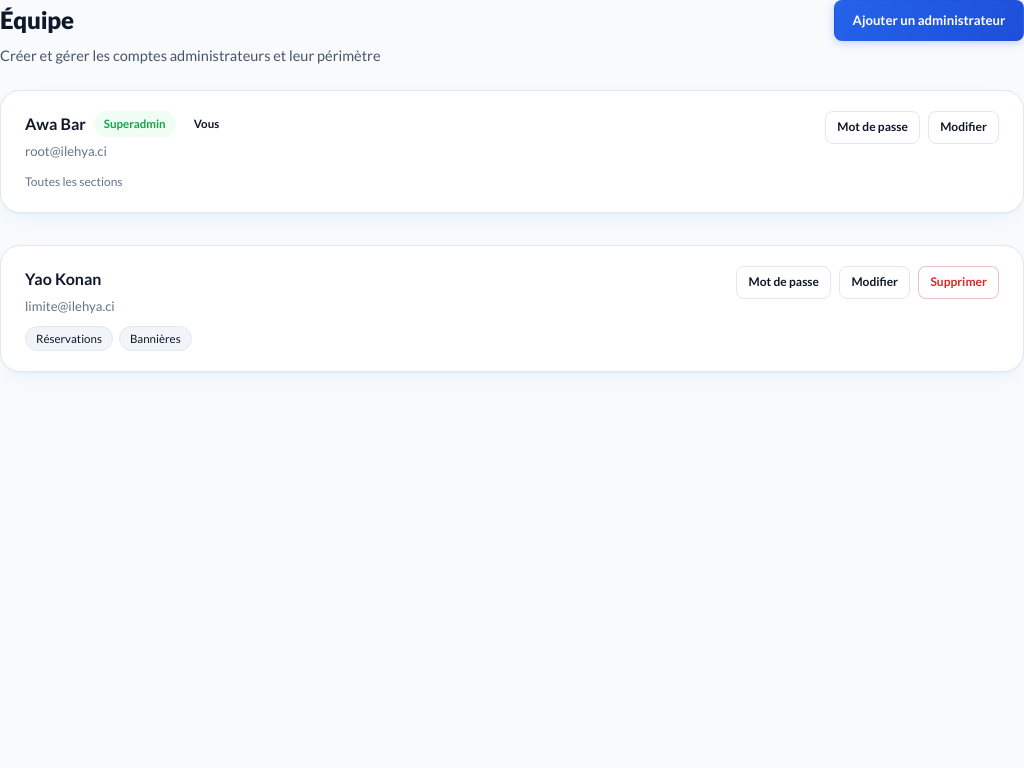
Scenario: AdminEquipePage — création › crée un compte avec le périmètre sélectionné puis recharge la liste
The width and height of the screenshot is (1024, 768).
Expected: the text "Yao Konan" is shown, [25,266,101,292]
Click the button "Ajouter un administrateur": coordinates (929, 21) [834,0,1023,41]
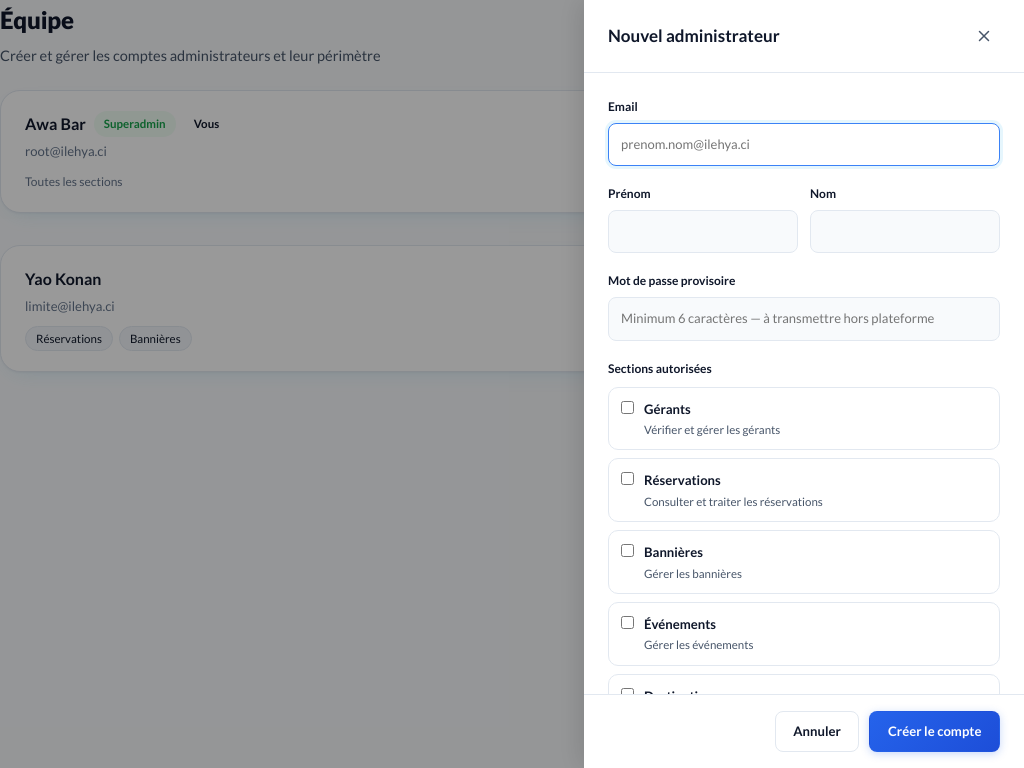
In the field labelled "Email": coordinates (804, 144) [608,123,1000,166], type "nouveau@ilehya.ci"
In the field labelled "Prénom": coordinates (703, 232) [608,210,798,253], type "Aya"
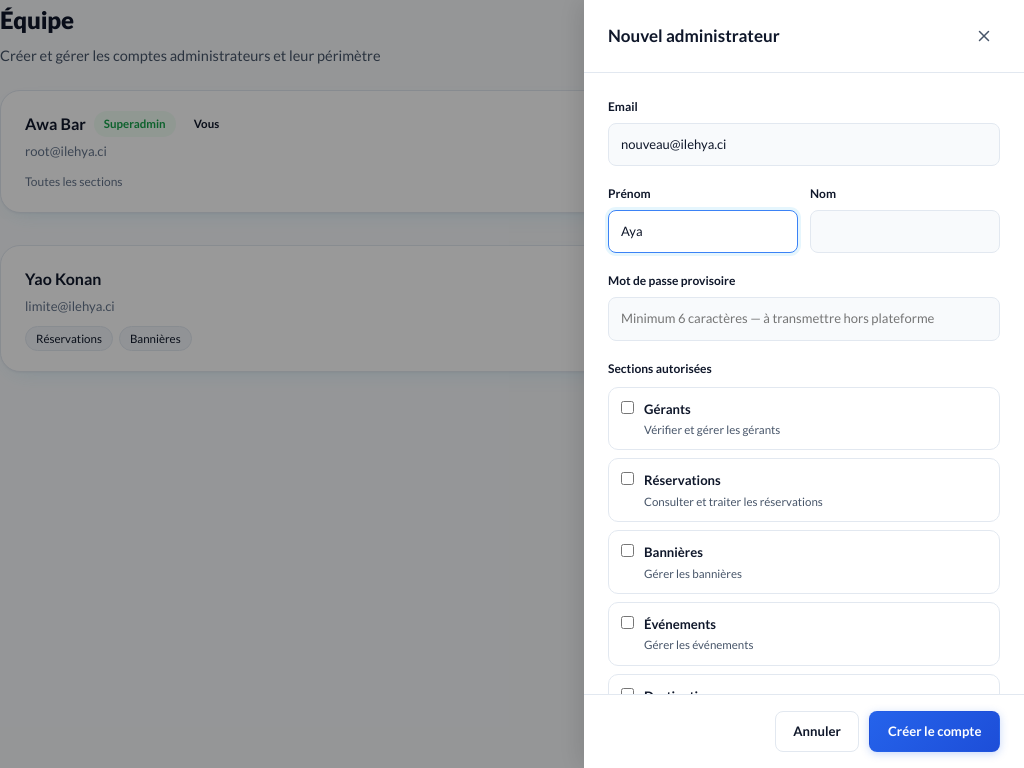
In the field labelled "Nom": coordinates (905, 232) [810,210,1000,253], type "Diabaté"
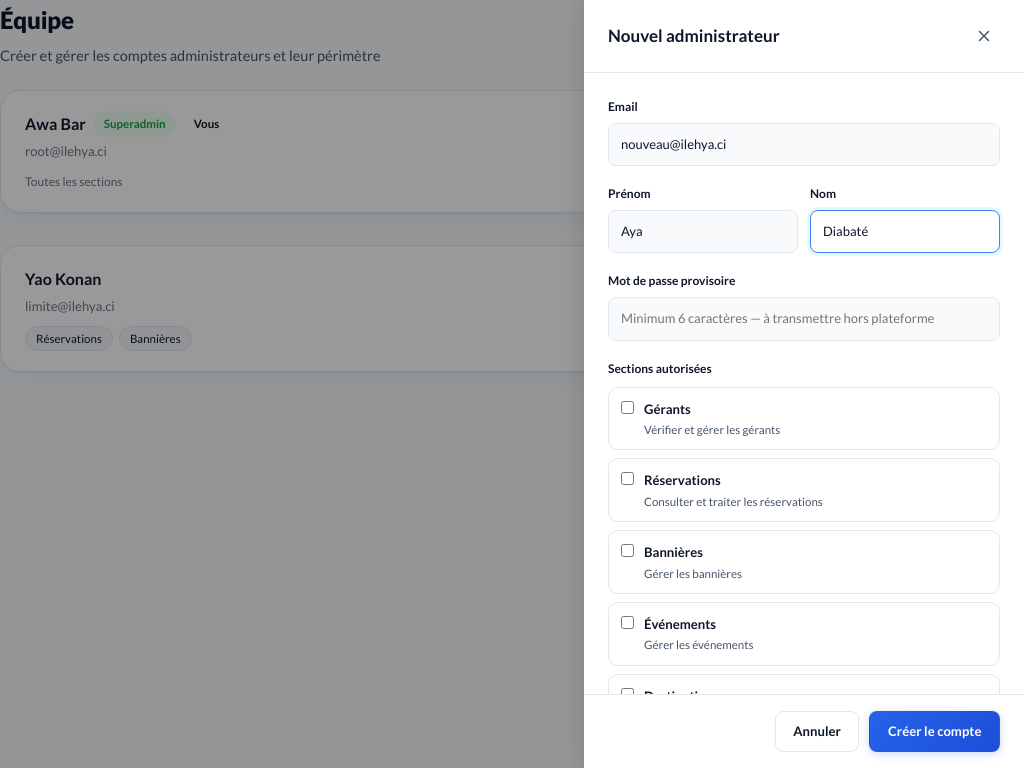
In the password field labelled "Mot de passe provisoire": coordinates (804, 319) [608,297,1000,341], type "secret-1"
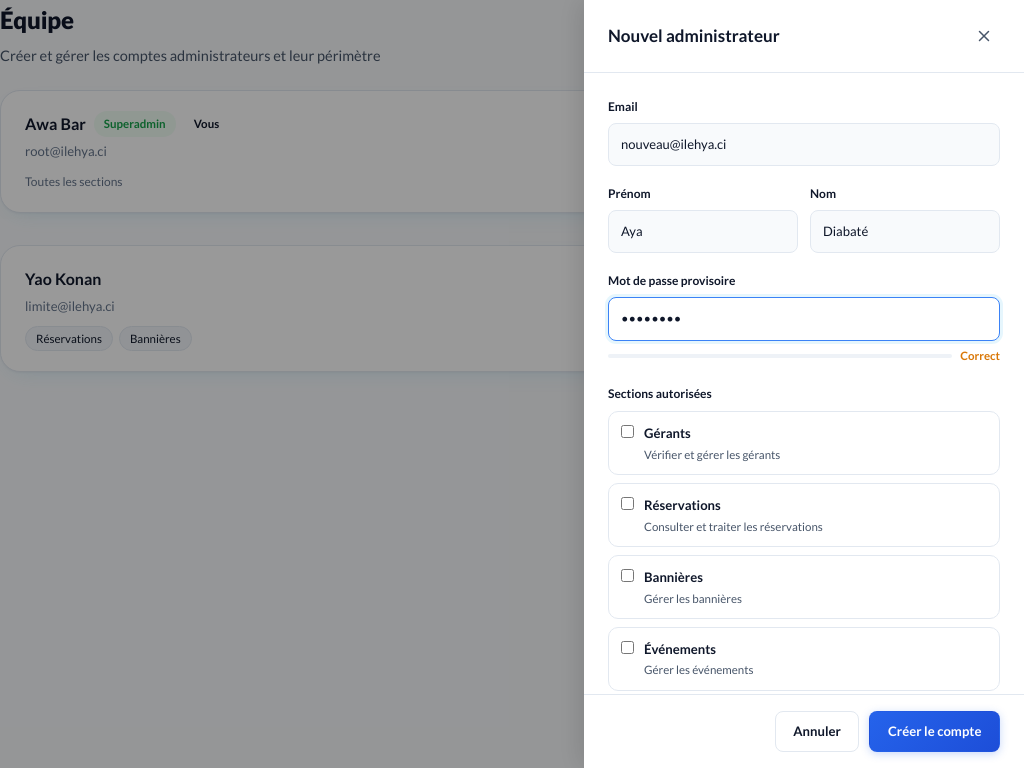
Click the checkbox labelled "Gérants Vérifier et gérer les gérants": coordinates (628, 432) [621,426,634,438]
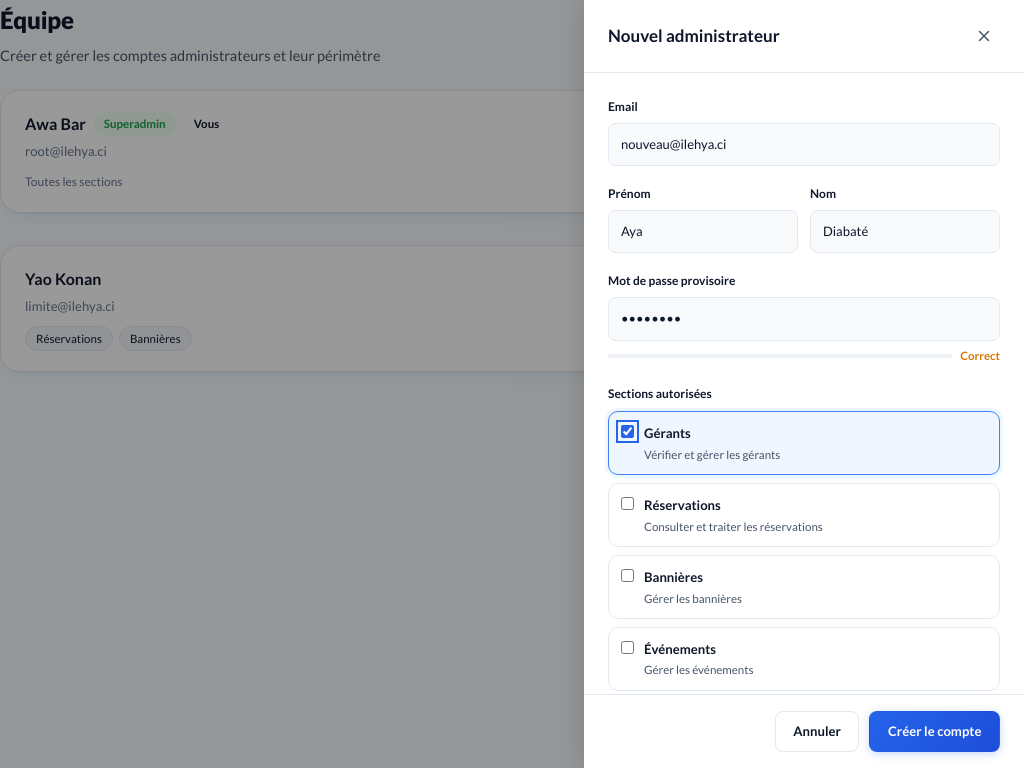
Click the button "Créer le compte": coordinates (935, 731) [869,711,1000,752]
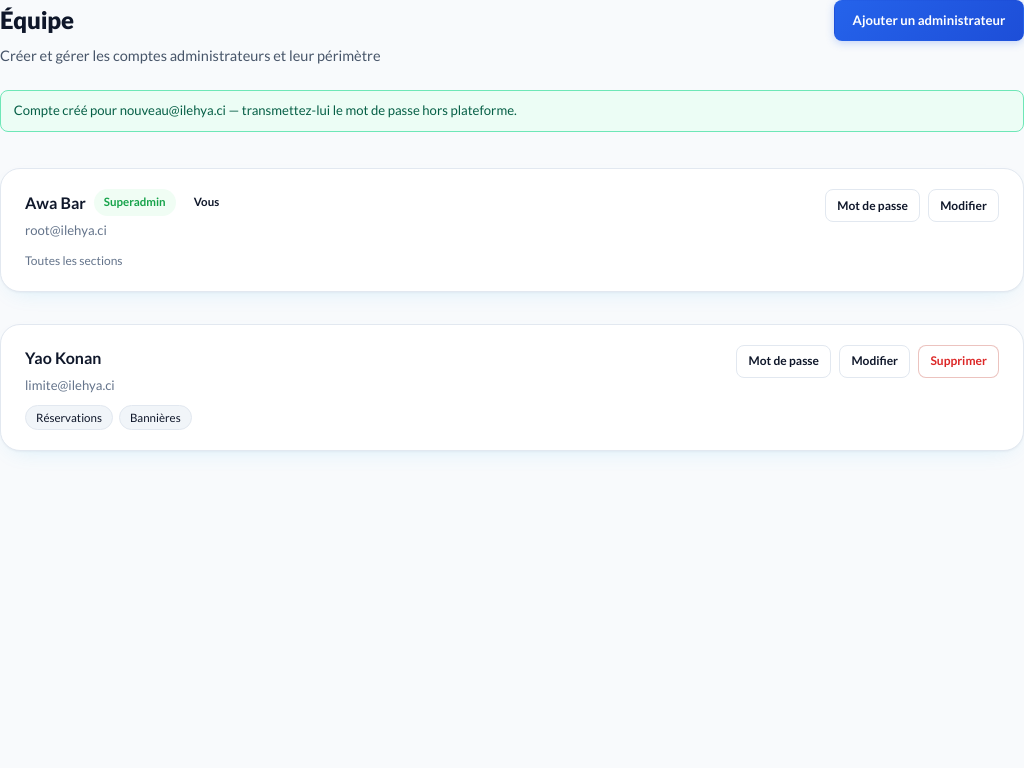
Expected: the text "Compte créé pour nouveau@ilehya.ci — transmettez-lui le mot de passe hors plateforme." is shown, [14,102,517,118]
Expected: the text labelled "Email" is gone
